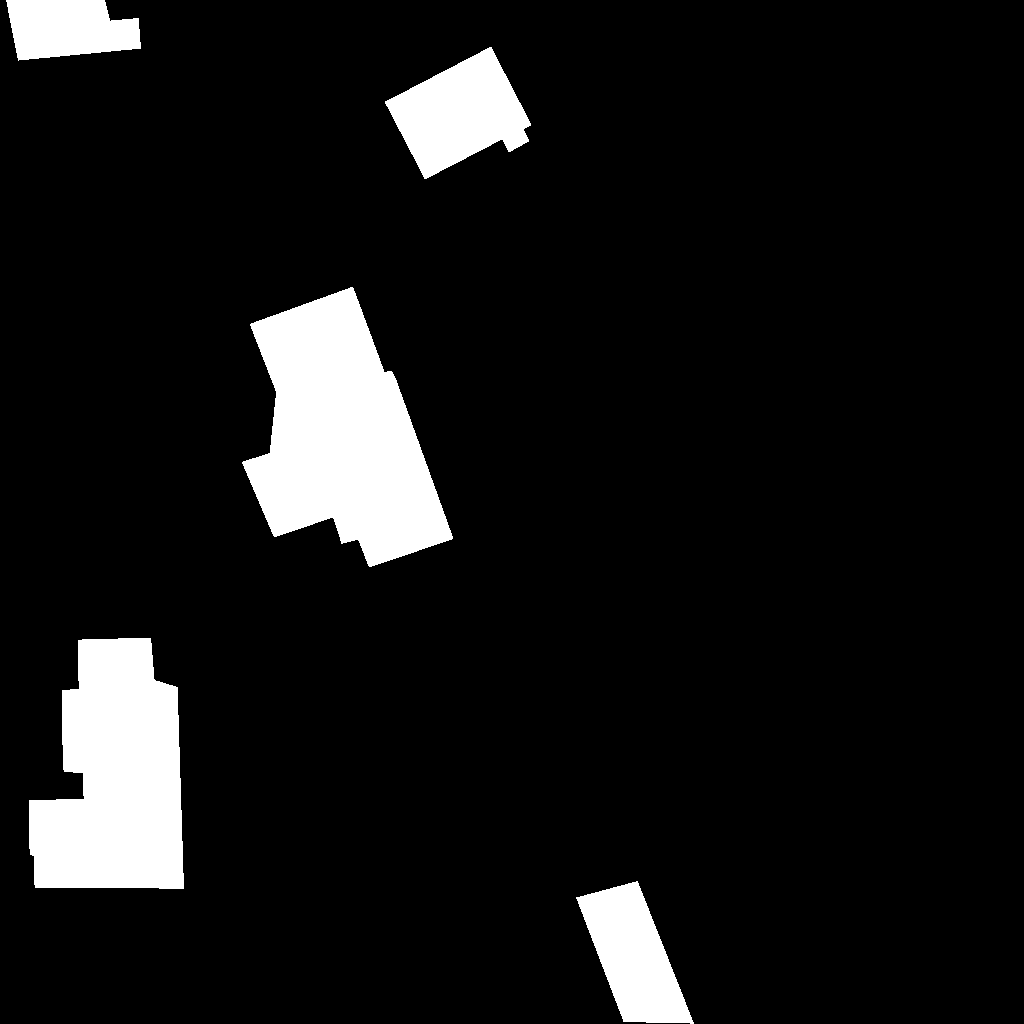building: (242, 287, 454, 568), (29, 638, 185, 889), (385, 47, 532, 180), (576, 881, 695, 1024), (6, 0, 142, 61)
